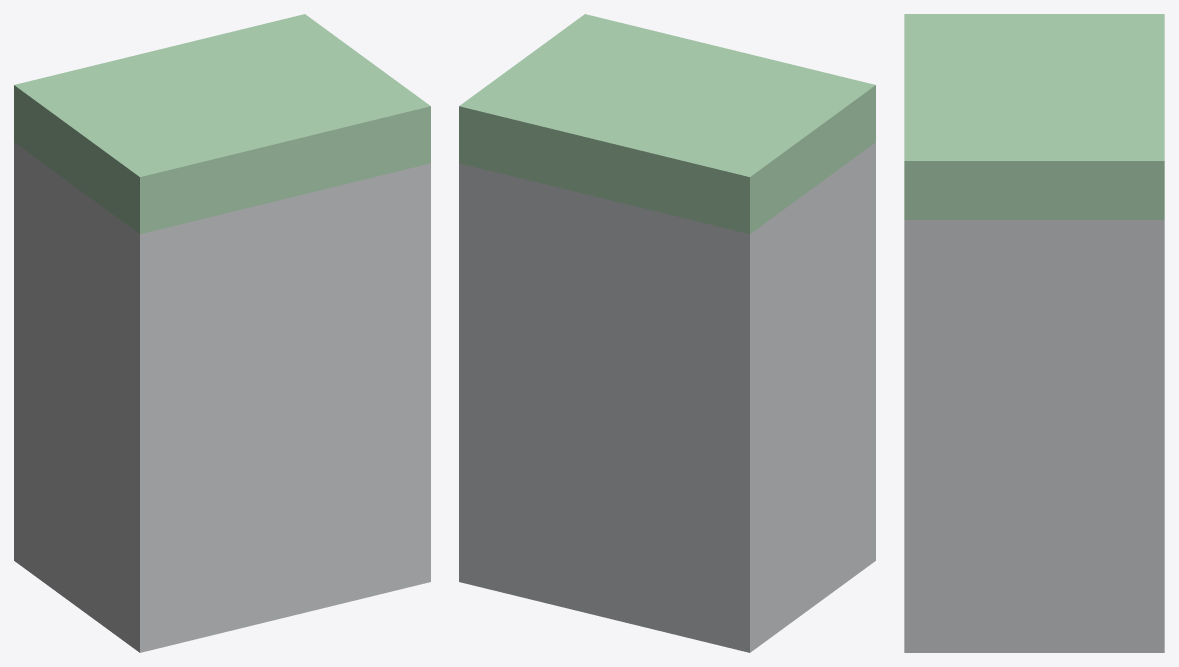
The model's file is product_milk.glb.
The picture shows the model from 3 angles, left to right: view 1: azimuth 30°, elevation 25°; view 2: azimuth 150°, elevation 25°; view 3: azimuth 270°, elevation 25°; orthographic projection. The views are drawn at different scales.
Parts seen in each view (by area): view 1: body.001, top; view 2: body.001, top; view 3: body.001, top.
Part boxes in pixels (x1,y1,x2,y2): body.001: (14,142,430,652); top: (14,14,430,234); body.001: (459,142,875,652); top: (459,14,875,234); body.001: (904,220,1164,652); top: (904,14,1164,219).
Size of the model in its own units: 0.32 by 0.5 by 0.24.
